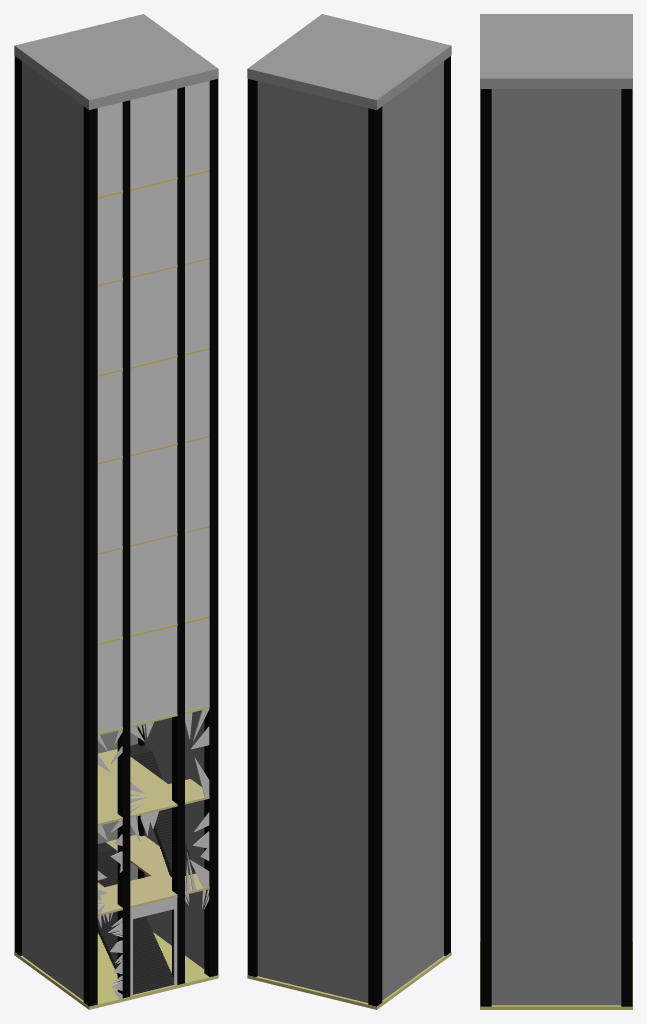
File: Prédio-01.fbx
The picture shows the model from 3 angles, left to right: view 1: azimuth 30°, elevation 25°; view 2: azimuth 150°, elevation 25°; view 3: azimuth 270°, elevation 25°; orthographic projection. The views are drawn at different scales.
Visible parts, largest first — view 1: Cubo.001; view 2: Cubo.001; view 3: Cubo.001.
Boxes of the visible parts, left/top/right/bottom form: Cubo.001: left=14, top=14, right=218, bottom=1009; Cubo.001: left=247, top=14, right=451, bottom=1009; Cubo.001: left=480, top=14, right=632, bottom=1009.
Bounding box in the file's own units: 1483 × 9965 × 1483.
